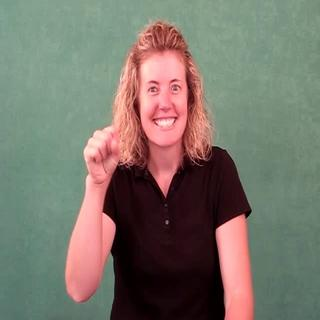yes: (75, 126, 129, 182)
